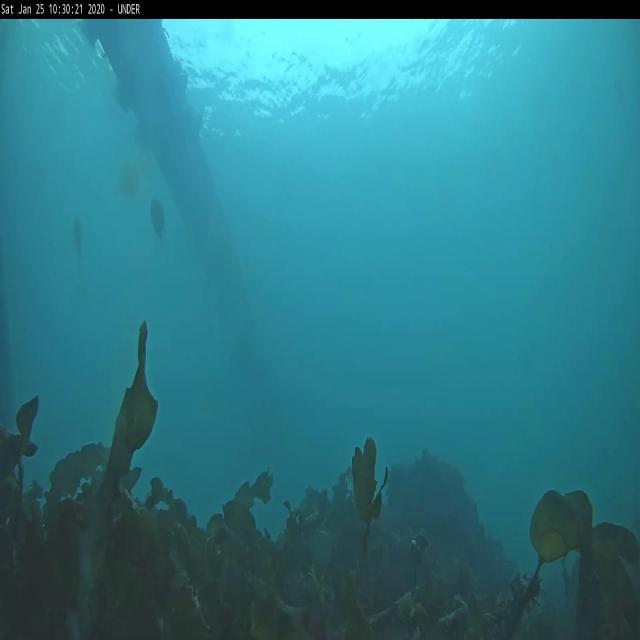fish: (148, 190, 168, 246), (70, 218, 86, 266)
